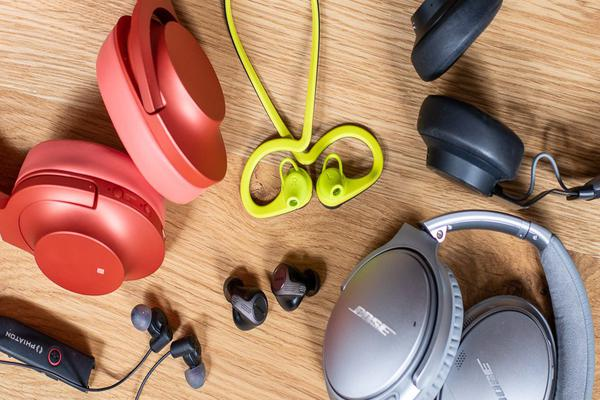headphone: (1, 10, 232, 295), (316, 195, 596, 400), (368, 1, 600, 205), (234, 82, 407, 231), (123, 304, 227, 399), (211, 268, 317, 345)
